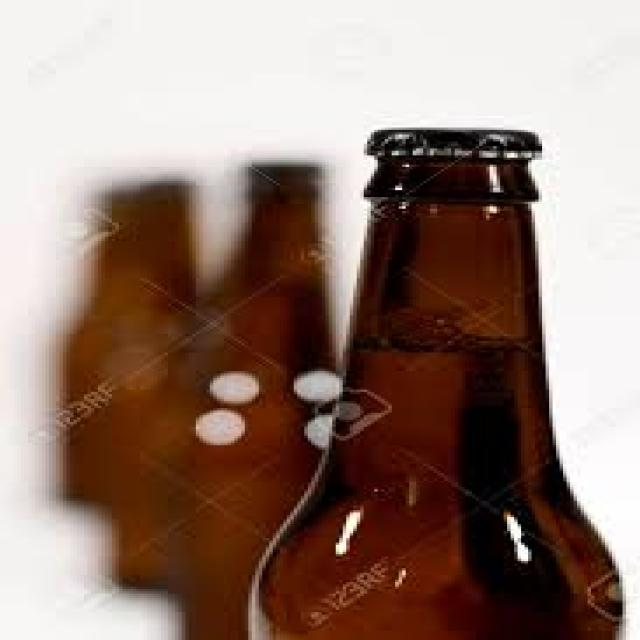glass: (248, 155, 619, 638), (168, 172, 332, 638), (63, 181, 185, 496)
metal: (364, 123, 539, 155)
